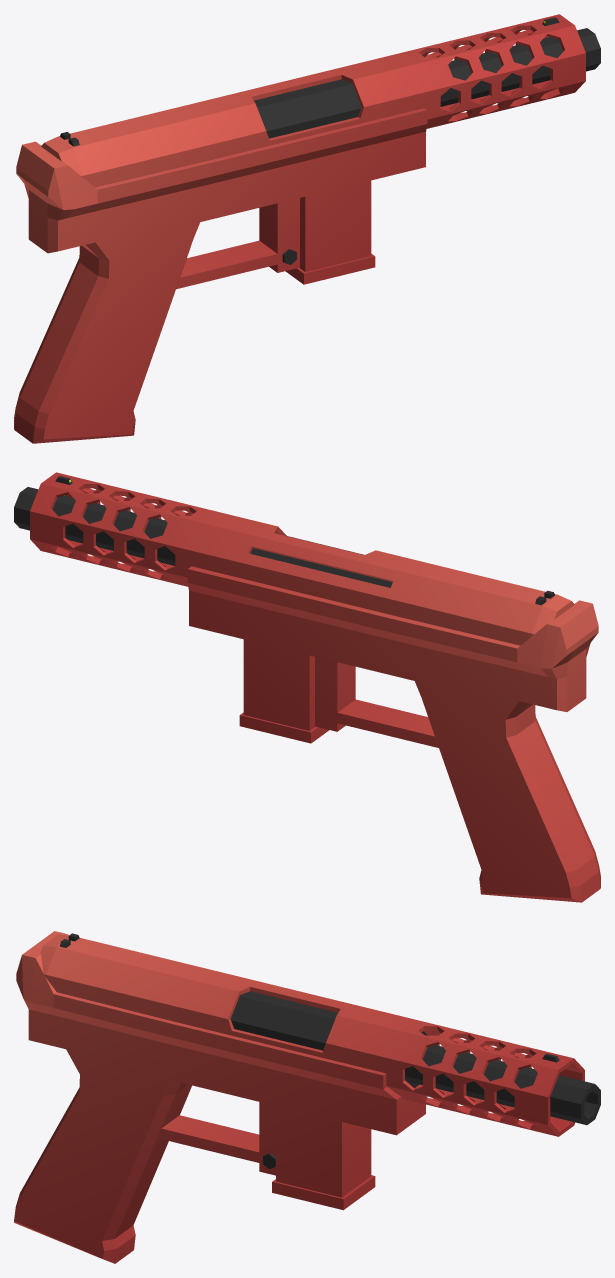
File: Pistol6_06.fbx
3 renders of one model, top to bottom at view 1: azimuth 30°, elevation 25°; view 2: azimuth 150°, elevation 25°; view 3: azimuth 330°, elevation 25°, orthographic.
Visible parts, largest first — view 1: Pistol6_06; view 2: Pistol6_06; view 3: Pistol6_06.
Part boxes in pixels (<box>): Pistol6_06: <box>14,14,600,443</box>; Pistol6_06: <box>14,472,600,902</box>; Pistol6_06: <box>14,931,600,1263</box>.
Size of the model in its own units: 0.3373 by 0.1735 by 0.0451.
